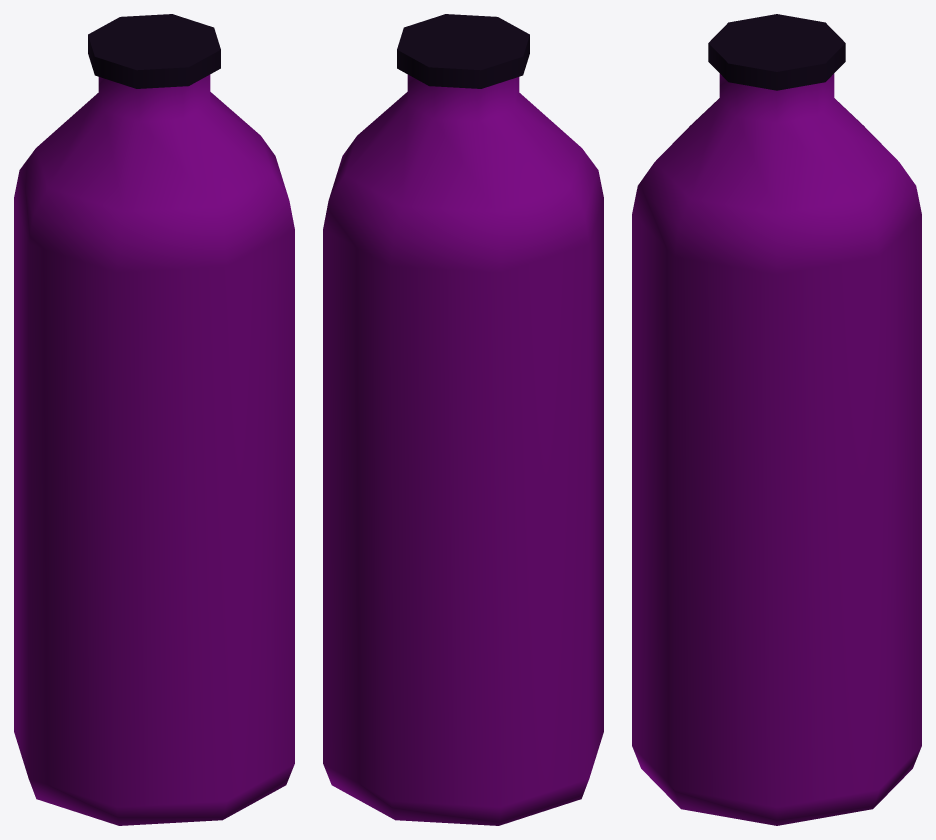
The model's file is SM_Milk.fbx.
The picture shows the model from 3 angles, left to right: view 1: azimuth 30°, elevation 25°; view 2: azimuth 150°, elevation 25°; view 3: azimuth 270°, elevation 25°; orthographic projection.
Visible parts, largest first — view 1: SM_Milk; view 2: SM_Milk; view 3: SM_Milk.
Part boxes in pixels (x1,y1,x2,y2): SM_Milk: [14, 14, 294, 825]; SM_Milk: [323, 14, 603, 825]; SM_Milk: [632, 14, 921, 825].
Bounding box in the file's own units: 14 × 39.08 × 14.
